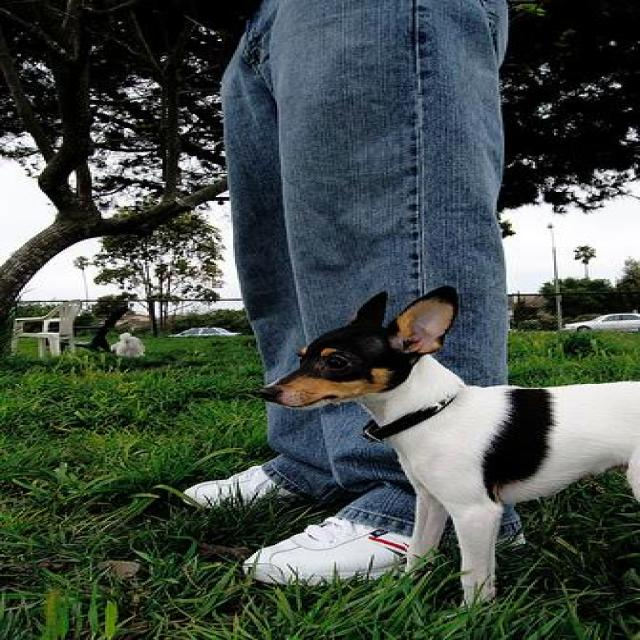toy_terrier: (268, 292, 636, 622)
